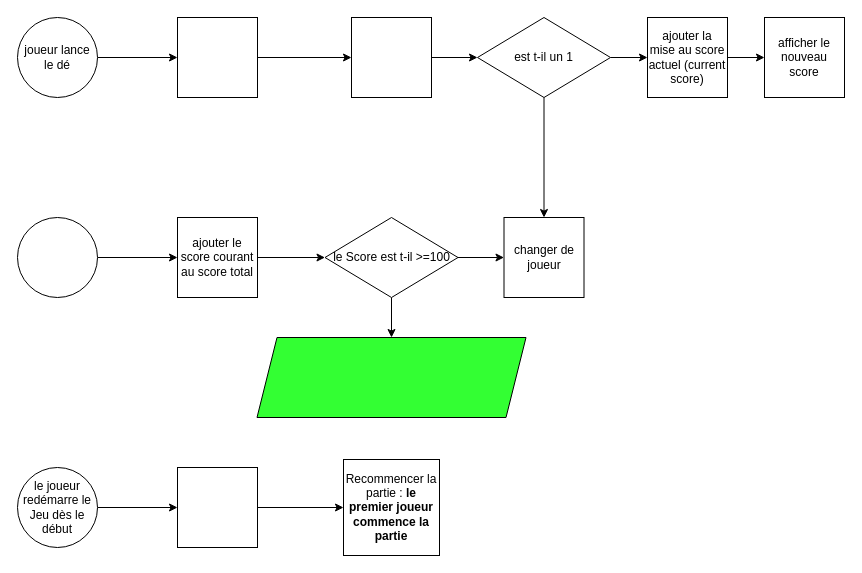
The diagram is 862 pixels wide and 573 high, and some of its shapes have lost their labels. Each missing label, with the centre of its shape:
"afficher la mise (du dé)" goes at point (391, 57).
"generer une mise 100% RandoM (entre 1 et 6)" goes at point (217, 57).
"le joueur AcTuel a Gagné ^__^ et le 2ième a automatiquement perdu la partie" goes at point (391, 377).
"le joueur garde la cagnotte" goes at point (57, 257).
"remettre tout les scores à 0" goes at point (217, 507).
